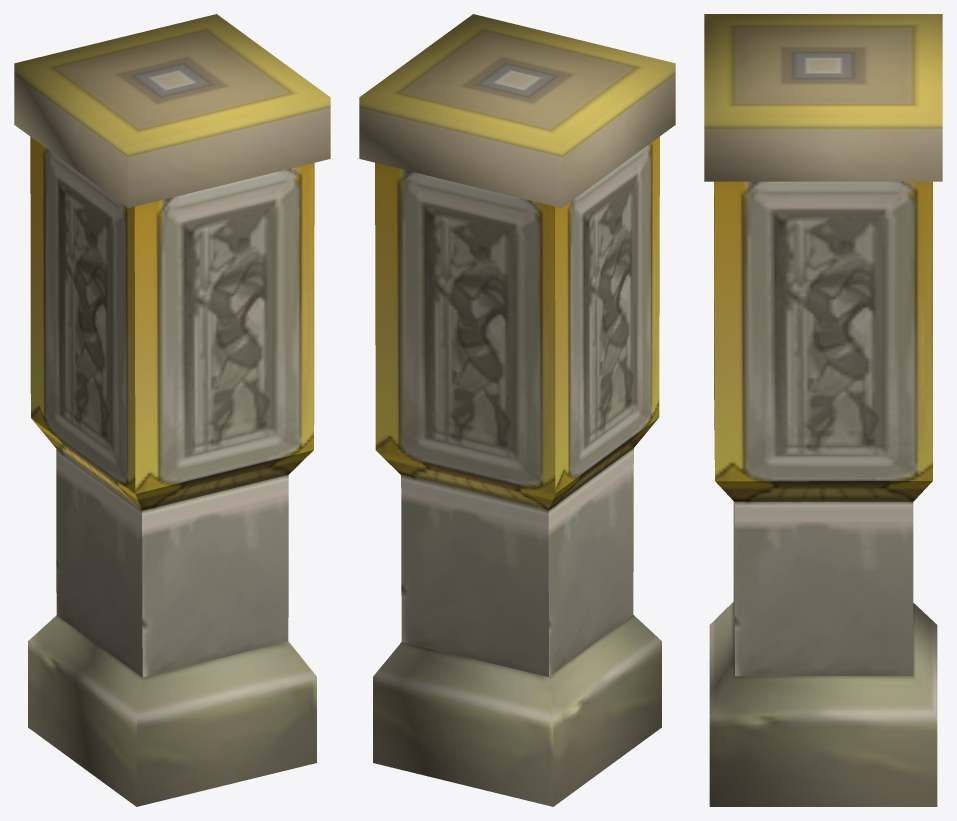
File: shizhu.FBX
3 renders of one model, left to right at view 1: azimuth 30°, elevation 25°; view 2: azimuth 150°, elevation 25°; view 3: azimuth 270°, elevation 25°, orthographic. The views are drawn at different scales.
Parts seen in each view (by area): view 1: shizhu; view 2: shizhu; view 3: shizhu.
Part boxes in pixels (x1,y1,x2,y2): shizhu: [14, 14, 330, 806]; shizhu: [359, 14, 675, 806]; shizhu: [704, 14, 942, 806].
Size of the model in its own units: 33.05 by 104 by 32.22.
Materials: 2 (2 with a texture image).
